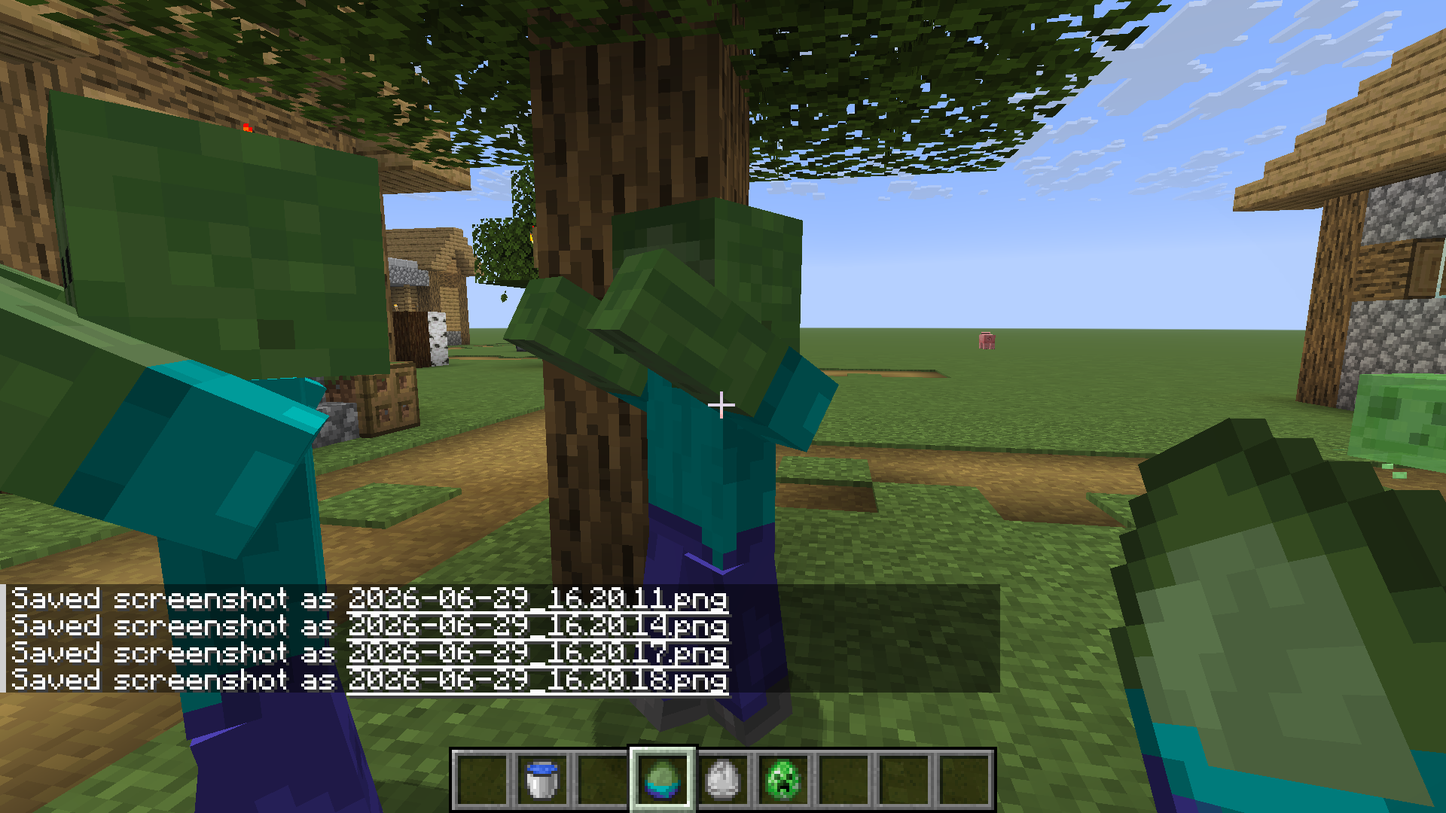zombie: (0, 85, 419, 584), (533, 195, 889, 592)
